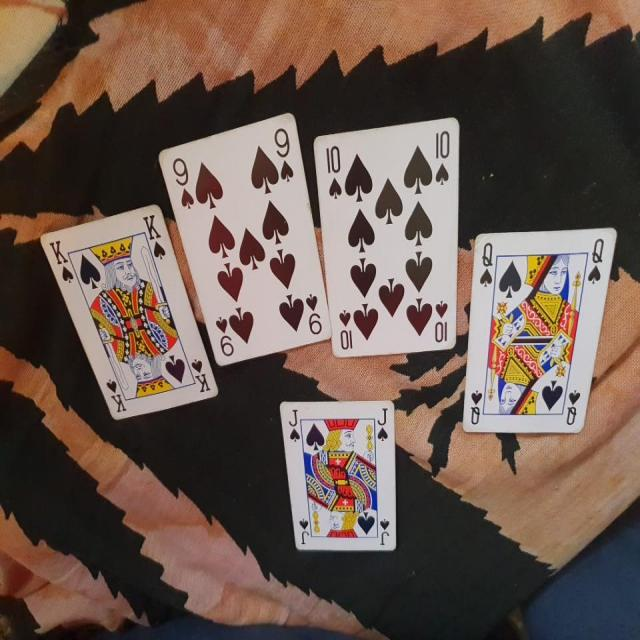10 Spades: (309, 116, 465, 360)
9 Spades: (149, 104, 340, 362)
J Spades: (278, 397, 403, 560)
K Spades: (33, 197, 224, 427)
Q Spades: (462, 219, 617, 446)
